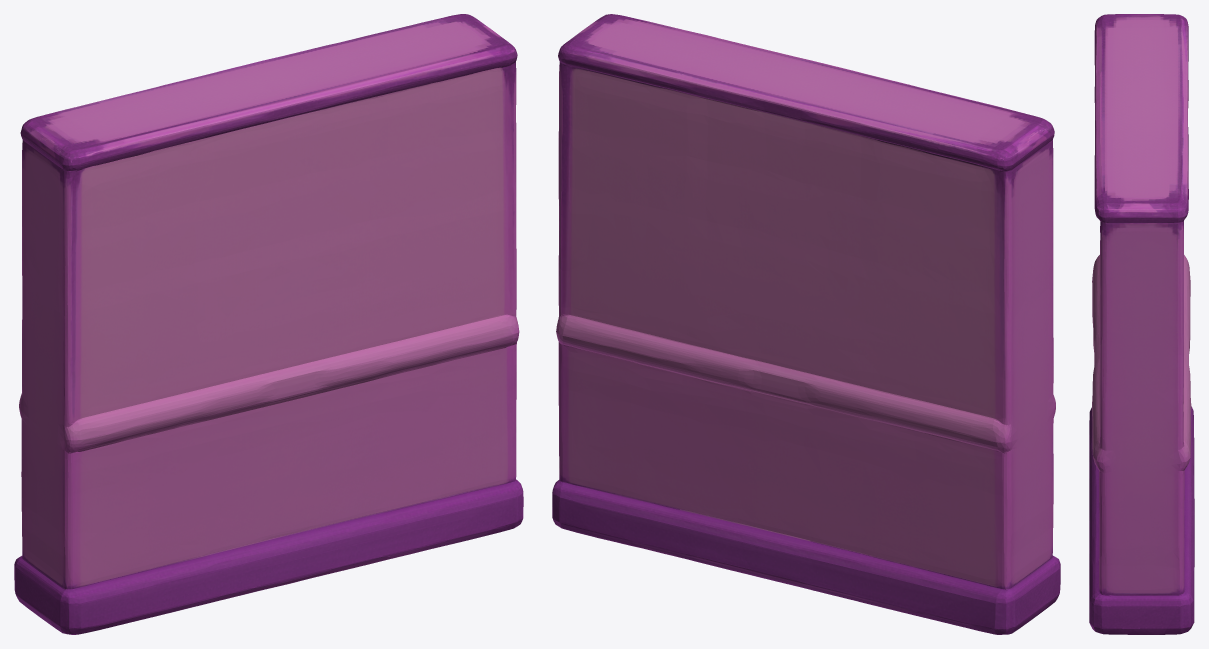
3 views of the same model, side by side, from view 1: azimuth 30°, elevation 25°; view 2: azimuth 150°, elevation 25°; view 3: azimuth 270°, elevation 25° (orthographic). The views are drawn at different scales.
Visible parts, largest first — view 1: world; view 2: world; view 3: world.
Part boxes in pixels (box(x1,y1,x2,y2)): world: box(14, 14, 523, 634); world: box(552, 14, 1060, 634); world: box(1089, 14, 1194, 634).
Size of the model in its own units: 100 by 100 by 22.23.
Materials: 1 (1 with a texture image).
